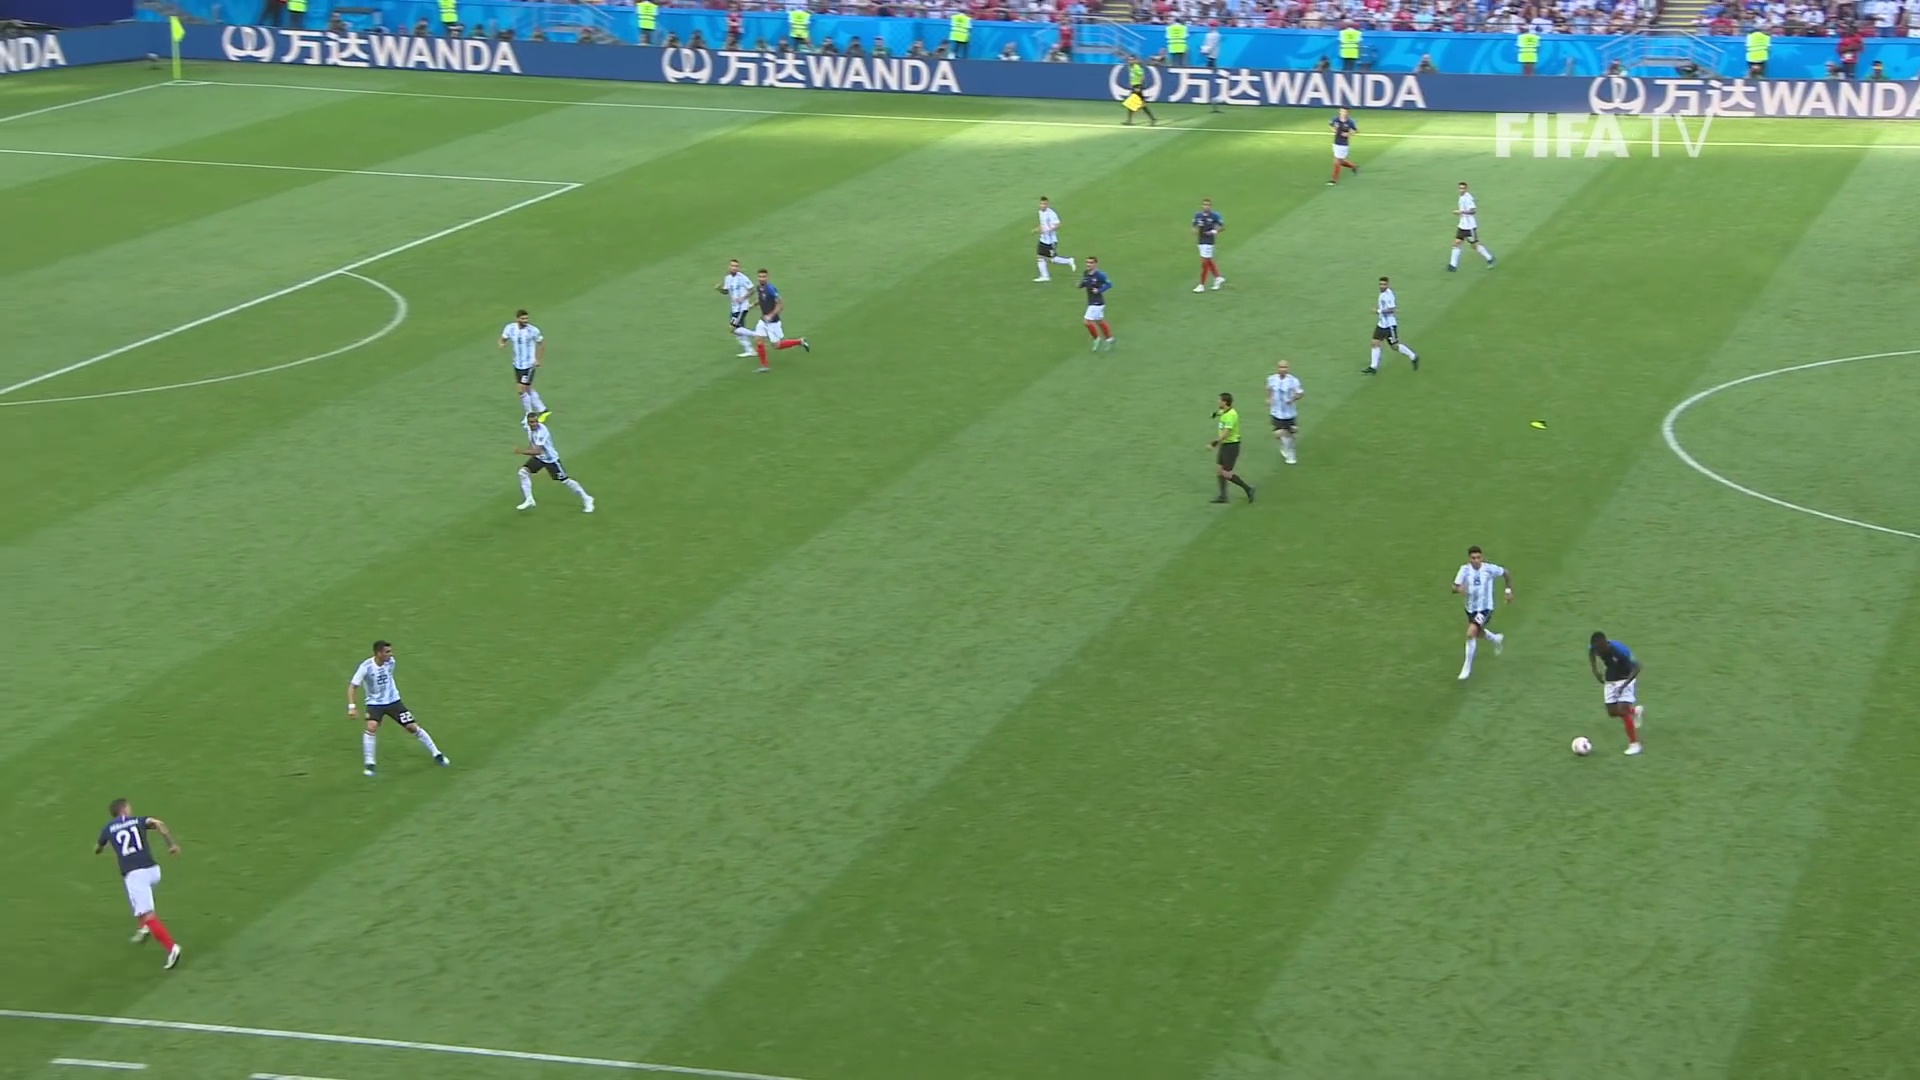ball: (1572, 738, 1590, 756)
person: (89, 794, 189, 978), (344, 645, 452, 772), (1587, 633, 1654, 755), (1452, 539, 1505, 680), (520, 410, 587, 512), (1367, 276, 1422, 382), (507, 304, 554, 416), (752, 274, 810, 359), (718, 261, 761, 359), (1446, 182, 1493, 272), (1028, 196, 1071, 286), (1269, 359, 1301, 467), (1189, 200, 1226, 294), (1073, 255, 1110, 345), (1326, 108, 1361, 186)
